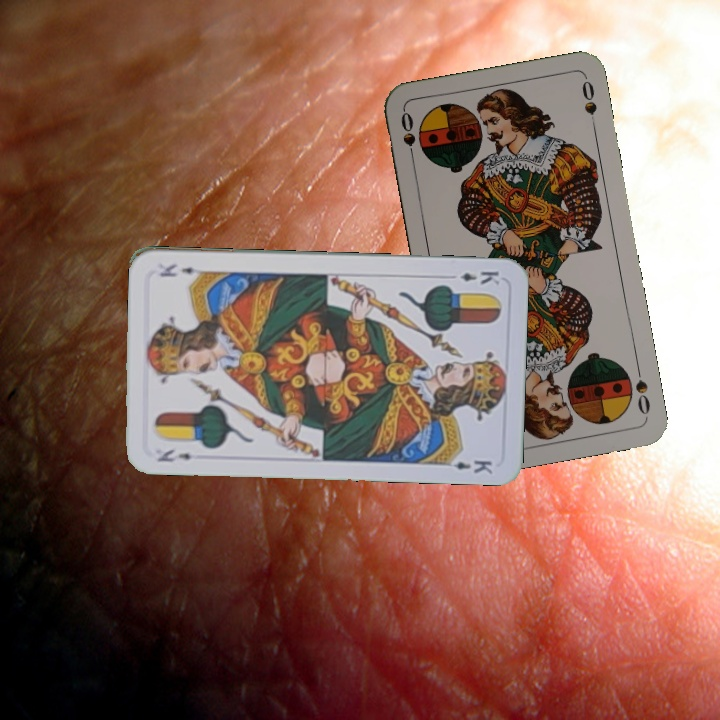EK: (443, 267, 502, 287), (153, 445, 207, 465)
SO: (631, 361, 653, 420), (397, 108, 418, 167)
